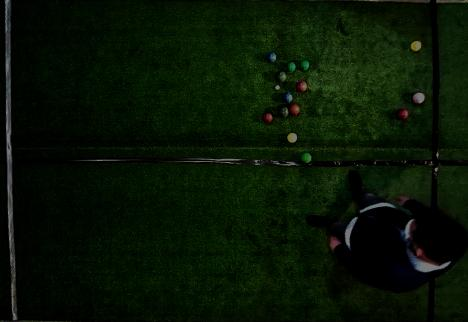blue: (282, 93, 292, 103), (267, 53, 276, 63)
green: (301, 153, 311, 164), (278, 107, 289, 117), (276, 71, 286, 82), (286, 62, 296, 72), (300, 61, 309, 70)
red: (413, 93, 425, 104), (289, 104, 300, 115), (296, 81, 307, 92), (397, 110, 408, 120), (263, 113, 273, 123)
vline: (431, 1, 467, 206), (0, 1, 22, 321), (428, 277, 468, 321)
white: (275, 85, 280, 90)
yellow: (411, 41, 422, 51), (287, 133, 297, 143)
